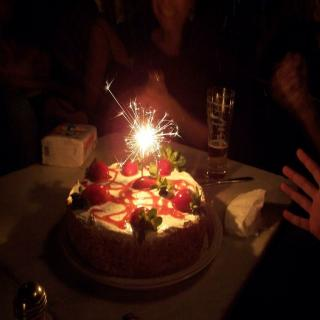Cake: (67, 146, 207, 276)
